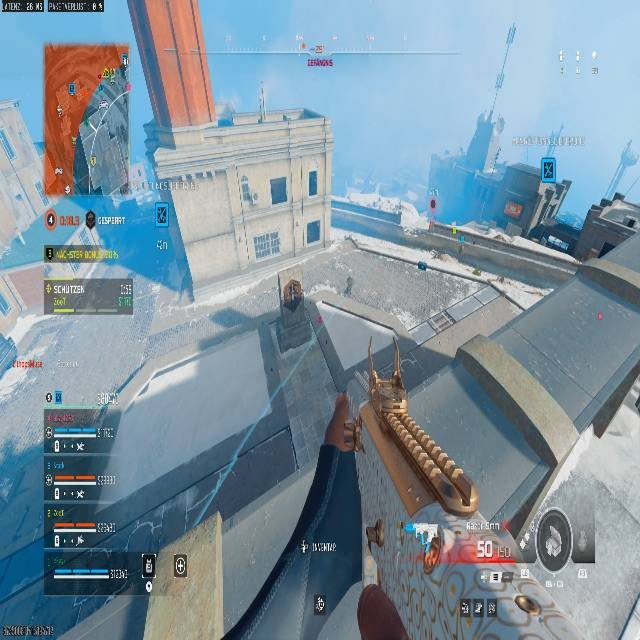player: (343, 275, 354, 297)
